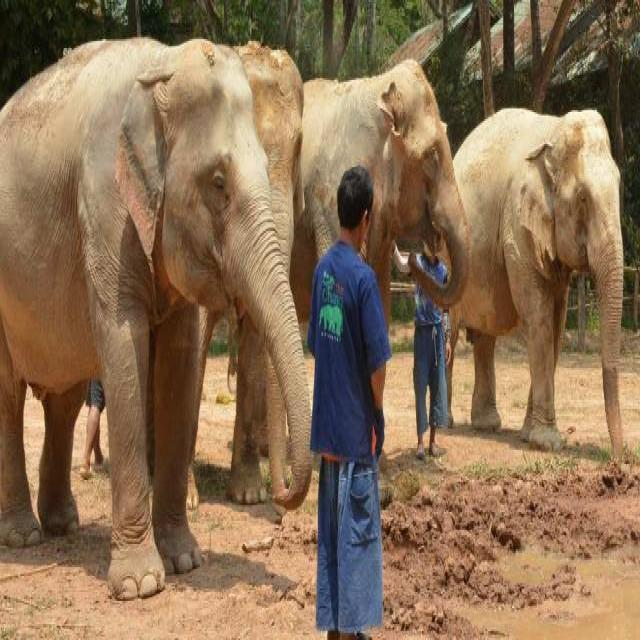Elephant: (12, 21, 314, 588), (439, 73, 625, 509), (306, 0, 473, 447)
